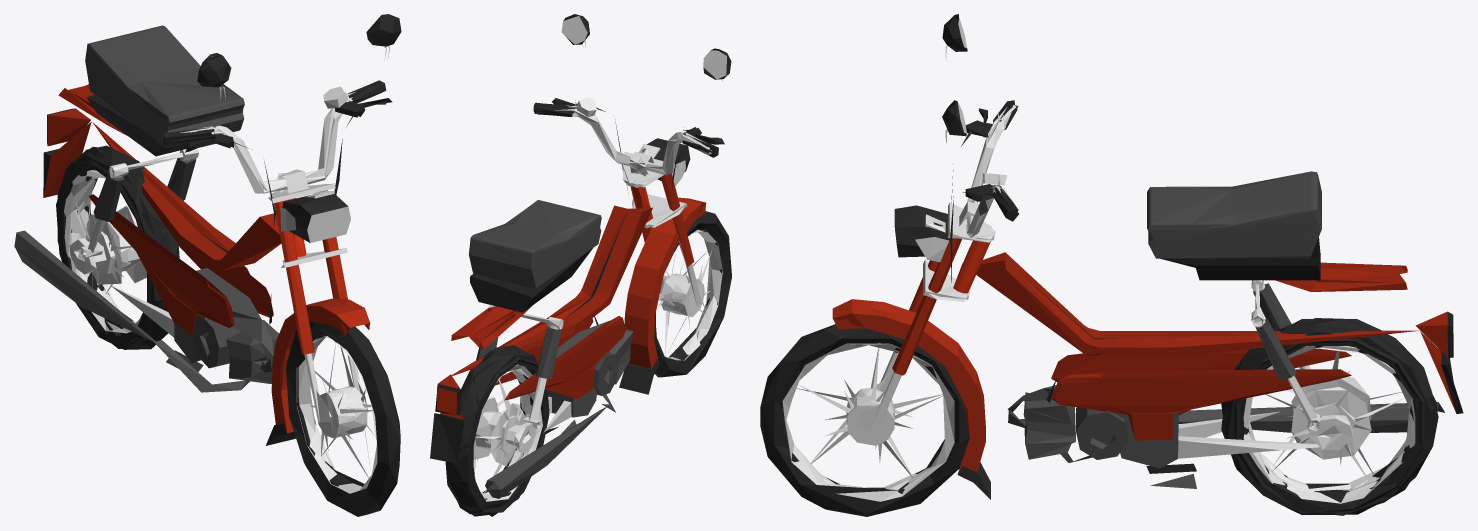
The model's file is z_moto.glb.
3 renders of one model, left to right at view 1: azimuth 30°, elevation 25°; view 2: azimuth 150°, elevation 25°; view 3: azimuth 270°, elevation 25°, orthographic. The views are drawn at different scales.
Visible parts, largest first — view 1: Guidon.006, Haut, Cube, Roue avant, Ailes, object 22, Echappement long, object 12, Moteur, Guidon.003, Dessus moteur, object 15 (+7 smaller); view 2: Guidon.006, Cube, Haut, object 22, Ailes, object 12, Roue avant, Echappement long, Scelle, object 15, object 13, Dessus moteur (+7 smaller); view 3: Guidon.006, Ailes, Cube, Haut, object 22, Roue avant, object 12, Echappement long, object 15, Scelle, Moteur, Dessus moteur.001 (+6 smaller).
Part boxes in pixels (box(x1,y1,x2,y2)): Guidon.006: box(163, 14, 401, 445); Haut: box(85, 25, 244, 148); Cube: box(43, 84, 281, 271); Roue avant: box(286, 321, 400, 516); Ailes: box(89, 194, 273, 335); object 22: box(56, 145, 179, 349); Echappement long: box(14, 230, 272, 372); object 12: box(64, 170, 146, 333); Moteur: box(154, 320, 278, 392); Guidon.003: box(280, 190, 350, 242); Dessus moteur: box(174, 268, 273, 363); object 15: box(296, 336, 377, 493); Guidon.006: box(533, 14, 731, 394); Cube: box(430, 205, 652, 463); Haut: box(468, 200, 601, 288); object 22: box(445, 345, 549, 516); Ailes: box(495, 316, 625, 400); object 12: box(473, 364, 542, 501); Roue avant: box(654, 211, 731, 377); Echappement long: box(485, 353, 618, 498); Scelle: box(470, 248, 592, 312); object 15: box(657, 229, 722, 360); object 13: box(660, 273, 704, 317); Dessus moteur: box(547, 321, 627, 417); Guidon.006: box(832, 14, 1018, 499); Ailes: box(1051, 348, 1351, 440); Cube: box(976, 252, 1463, 413); Haut: box(1147, 171, 1321, 258); object 22: box(1221, 318, 1438, 515); Roue avant: box(760, 324, 969, 516); object 12: box(1243, 346, 1415, 503); Echappement long: box(1008, 402, 1444, 459); object 15: box(782, 343, 954, 501); Scelle: box(1159, 237, 1320, 280); Moteur: box(1023, 392, 1092, 462); Dessus moteur.001: box(1178, 411, 1319, 458).
Size of the model in its own units: 0.8046 by 1.55 by 2.16.
Materials: 1 (1 with a texture image).
